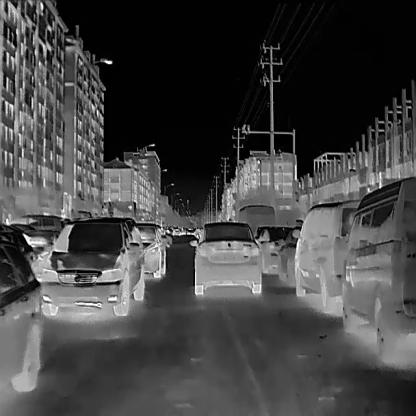car: (333, 174, 415, 358), (42, 215, 145, 316), (294, 196, 362, 306), (0, 238, 43, 393), (188, 221, 262, 295), (277, 217, 322, 285), (235, 202, 275, 265), (252, 222, 298, 272), (130, 222, 166, 277)
